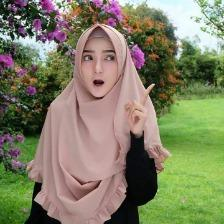HijabSyar-i: (20, 19, 173, 223)
